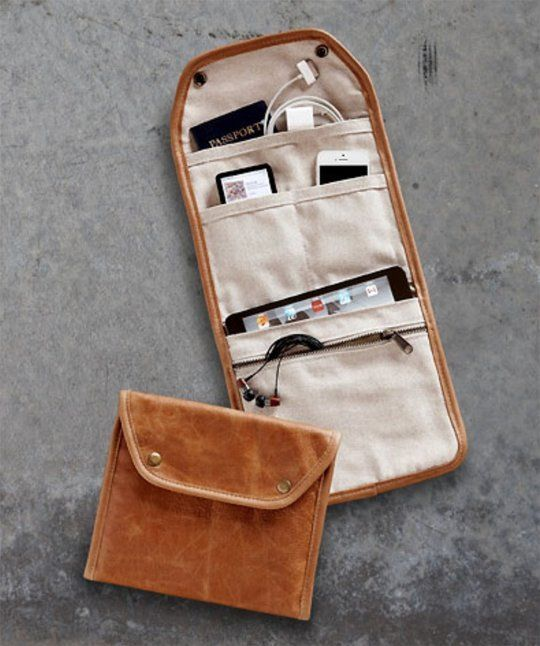cuero: (80, 388, 343, 620)
